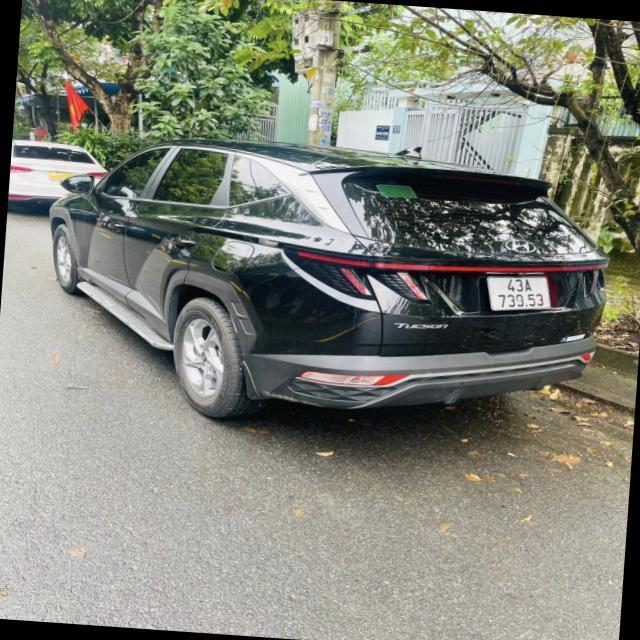car: (46, 141, 601, 436), (6, 134, 109, 220)
plate: (482, 268, 557, 316)
